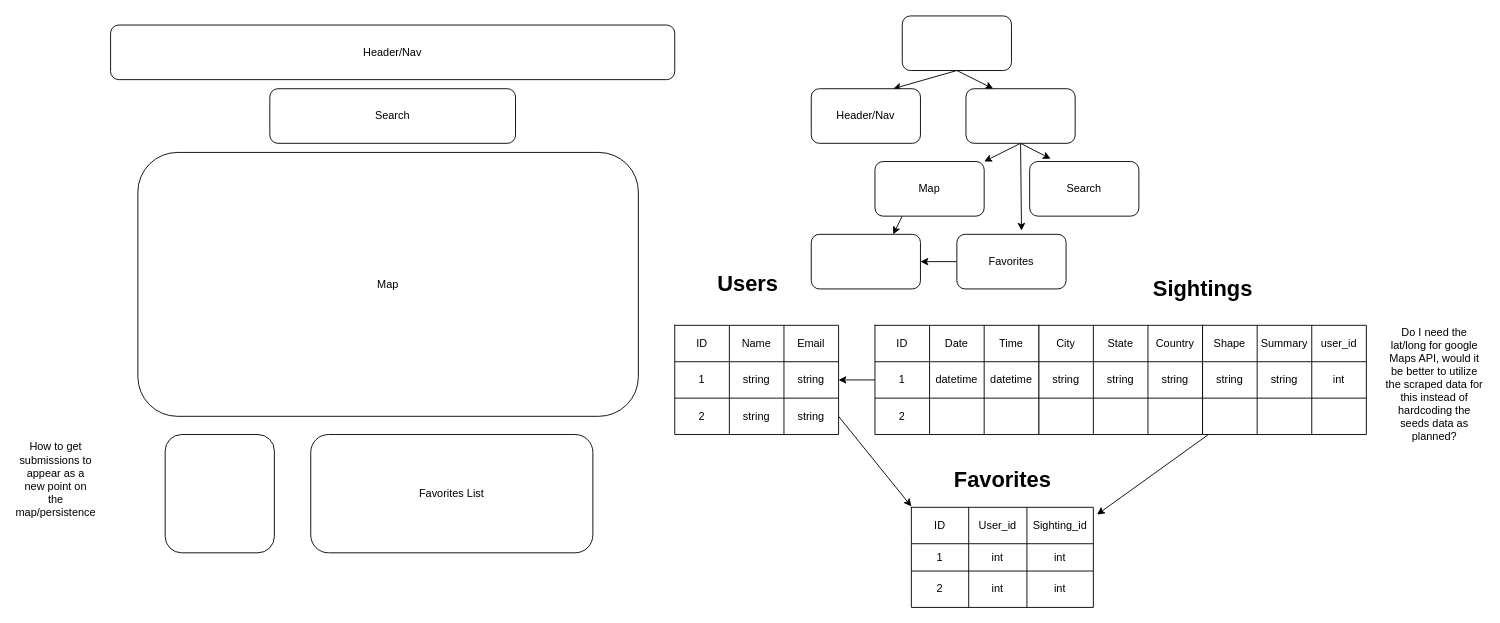
The diagram is 1500 pixels wide and 623 high, and some of its shapes have lost their labels. Each missing label, with the centre of its shape:
"App" goes at pixel 956 43.
"Home" goes at pixel 1020 115.
"SightingCard" goes at pixel 865 261.
"Submit Form" goes at pixel 219 493.
